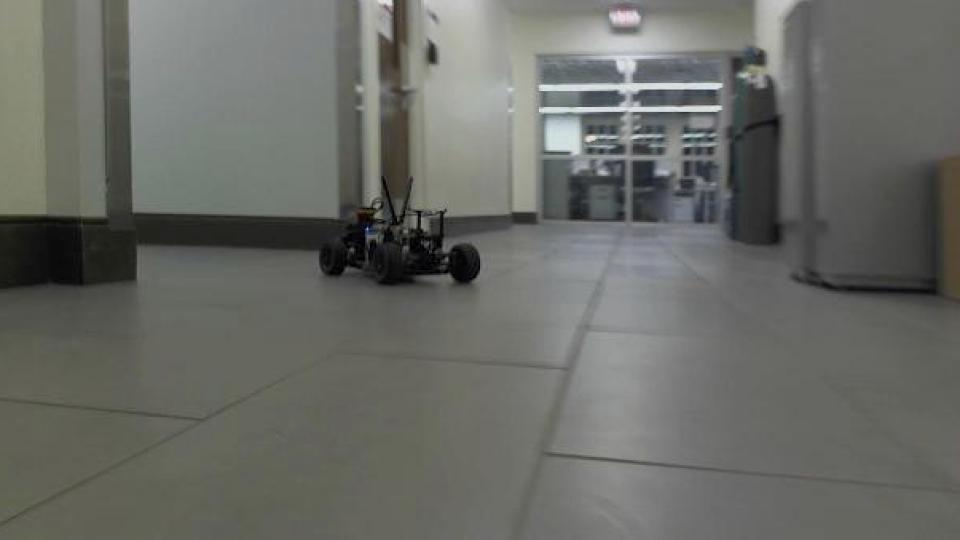car: (317, 173, 485, 289)
